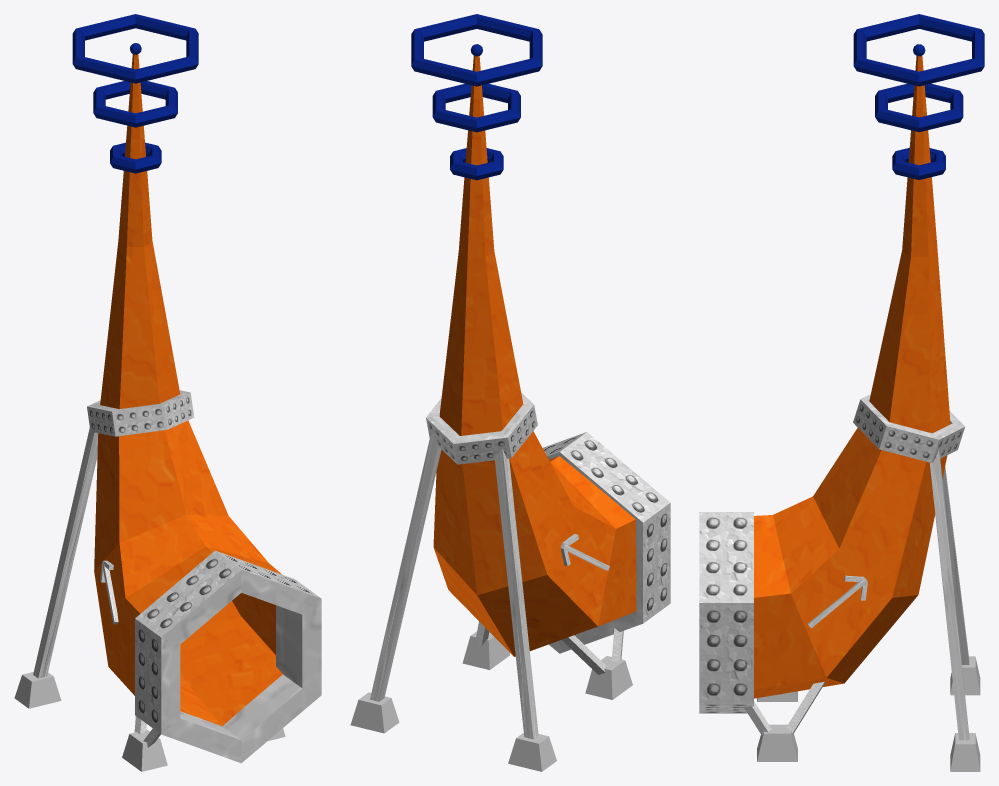
The model's file is TransmitterSuper.obj.
3 views of the same model, side by side, from view 1: azimuth 30°, elevation 25°; view 2: azimuth 150°, elevation 25°; view 3: azimuth 270°, elevation 25° (orthographic). The views are drawn at different scales.
Visible parts, largest first — view 1: Cylinder_Cylinder.003, Band7.002_Circle.002, Torus.004, Cube, Band7.003_Circle.002, Torus.003, ConcreteSupport_Cube.006, ConcreteSupport.001_Cube.001, Torus.005, Cube.001_Cube.008; view 2: Cylinder_Cylinder.003, Band7.002_Circle.002, Cube, Torus.004, Band7.003_Circle.002, ConcreteSupport.001_Cube.001, Torus.003, ConcreteSupport_Cube.006, Torus.005, SupportLeg2_Cylinder.001, Cube.001_Cube.008; view 3: Cylinder_Cylinder.003, Band7.002_Circle.002, Cube, Torus.004, Band7.003_Circle.002, Torus.003, ConcreteSupport.001_Cube.001, ConcreteSupport_Cube.006, Torus.005, Cube.001_Cube.008, SupportLeg2_Cylinder.001.
Part boxes in pixels (left/top/right/bottom): Cylinder_Cylinder.003: left=94, top=54, right=282, bottom=726; Band7.002_Circle.002: left=135, top=550, right=321, bottom=763; Torus.004: left=72, top=14, right=198, bottom=83; Cube: left=33, top=427, right=98, bottom=678; Band7.003_Circle.002: left=87, top=390, right=194, bottom=436; Torus.003: left=93, top=81, right=177, bottom=127; ConcreteSupport_Cube.006: left=122, top=728, right=285, bottom=771; ConcreteSupport.001_Cube.001: left=14, top=672, right=61, bottom=708; Torus.005: left=110, top=142, right=161, bottom=173; Cube.001_Cube.008: left=100, top=560, right=118, bottom=624; Cylinder_Cylinder.003: left=433, top=55, right=636, bottom=656; Band7.002_Circle.002: left=542, top=432, right=670, bottom=653; Cube: left=370, top=431, right=538, bottom=739; Torus.004: left=411, top=14, right=542, bottom=86; Band7.003_Circle.002: left=426, top=392, right=537, bottom=464; ConcreteSupport.001_Cube.001: left=350, top=692, right=556, bottom=771; Torus.003: left=432, top=83, right=520, bottom=132; ConcreteSupport_Cube.006: left=462, top=631, right=632, bottom=699; Torus.005: left=450, top=148, right=503, bottom=180; SupportLeg2_Cylinder.001: left=475, top=621, right=606, bottom=674; Cube.001_Cube.008: left=560, top=534, right=609, bottom=570; Cylinder_Cylinder.003: left=754, top=56, right=950, bottom=698; Band7.002_Circle.002: left=699, top=512, right=753, bottom=713; Cube: left=930, top=450, right=969, bottom=740; Torus.004: left=853, top=14, right=984, bottom=86; Band7.003_Circle.002: left=853, top=394, right=964, bottom=462; Torus.003: left=875, top=83, right=963, bottom=132; ConcreteSupport.001_Cube.001: left=950, top=656, right=980, bottom=771; ConcreteSupport_Cube.006: left=757, top=691, right=797, bottom=761; Torus.005: left=892, top=148, right=945, bottom=179; Cube.001_Cube.008: left=807, top=575, right=867, bottom=628; SupportLeg2_Cylinder.001: left=785, top=681, right=825, bottom=734.
Size of the model in its own units: 2.67 by 9.08 by 3.45.
Materials: 5 (3 with a texture image).
